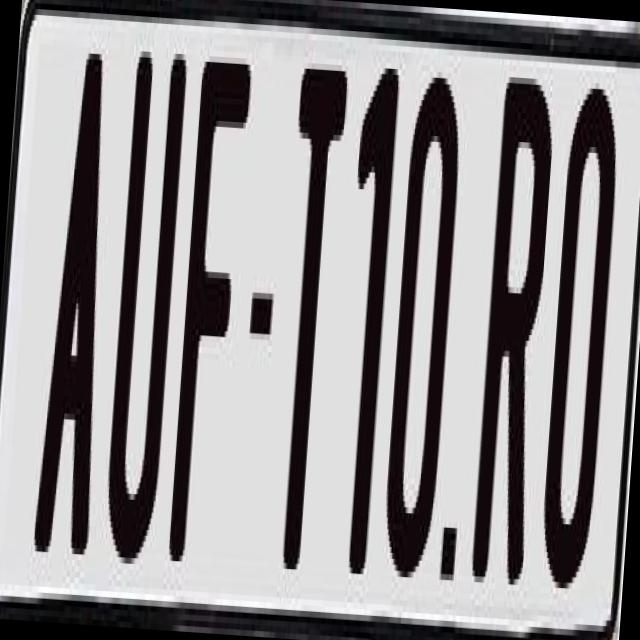0: (379, 59, 472, 574), (538, 81, 622, 595)
1: (328, 49, 408, 580)
A: (29, 34, 120, 543)
F: (166, 55, 255, 587)
R: (466, 71, 556, 608)
T: (266, 51, 356, 588)
U: (102, 39, 191, 571)
